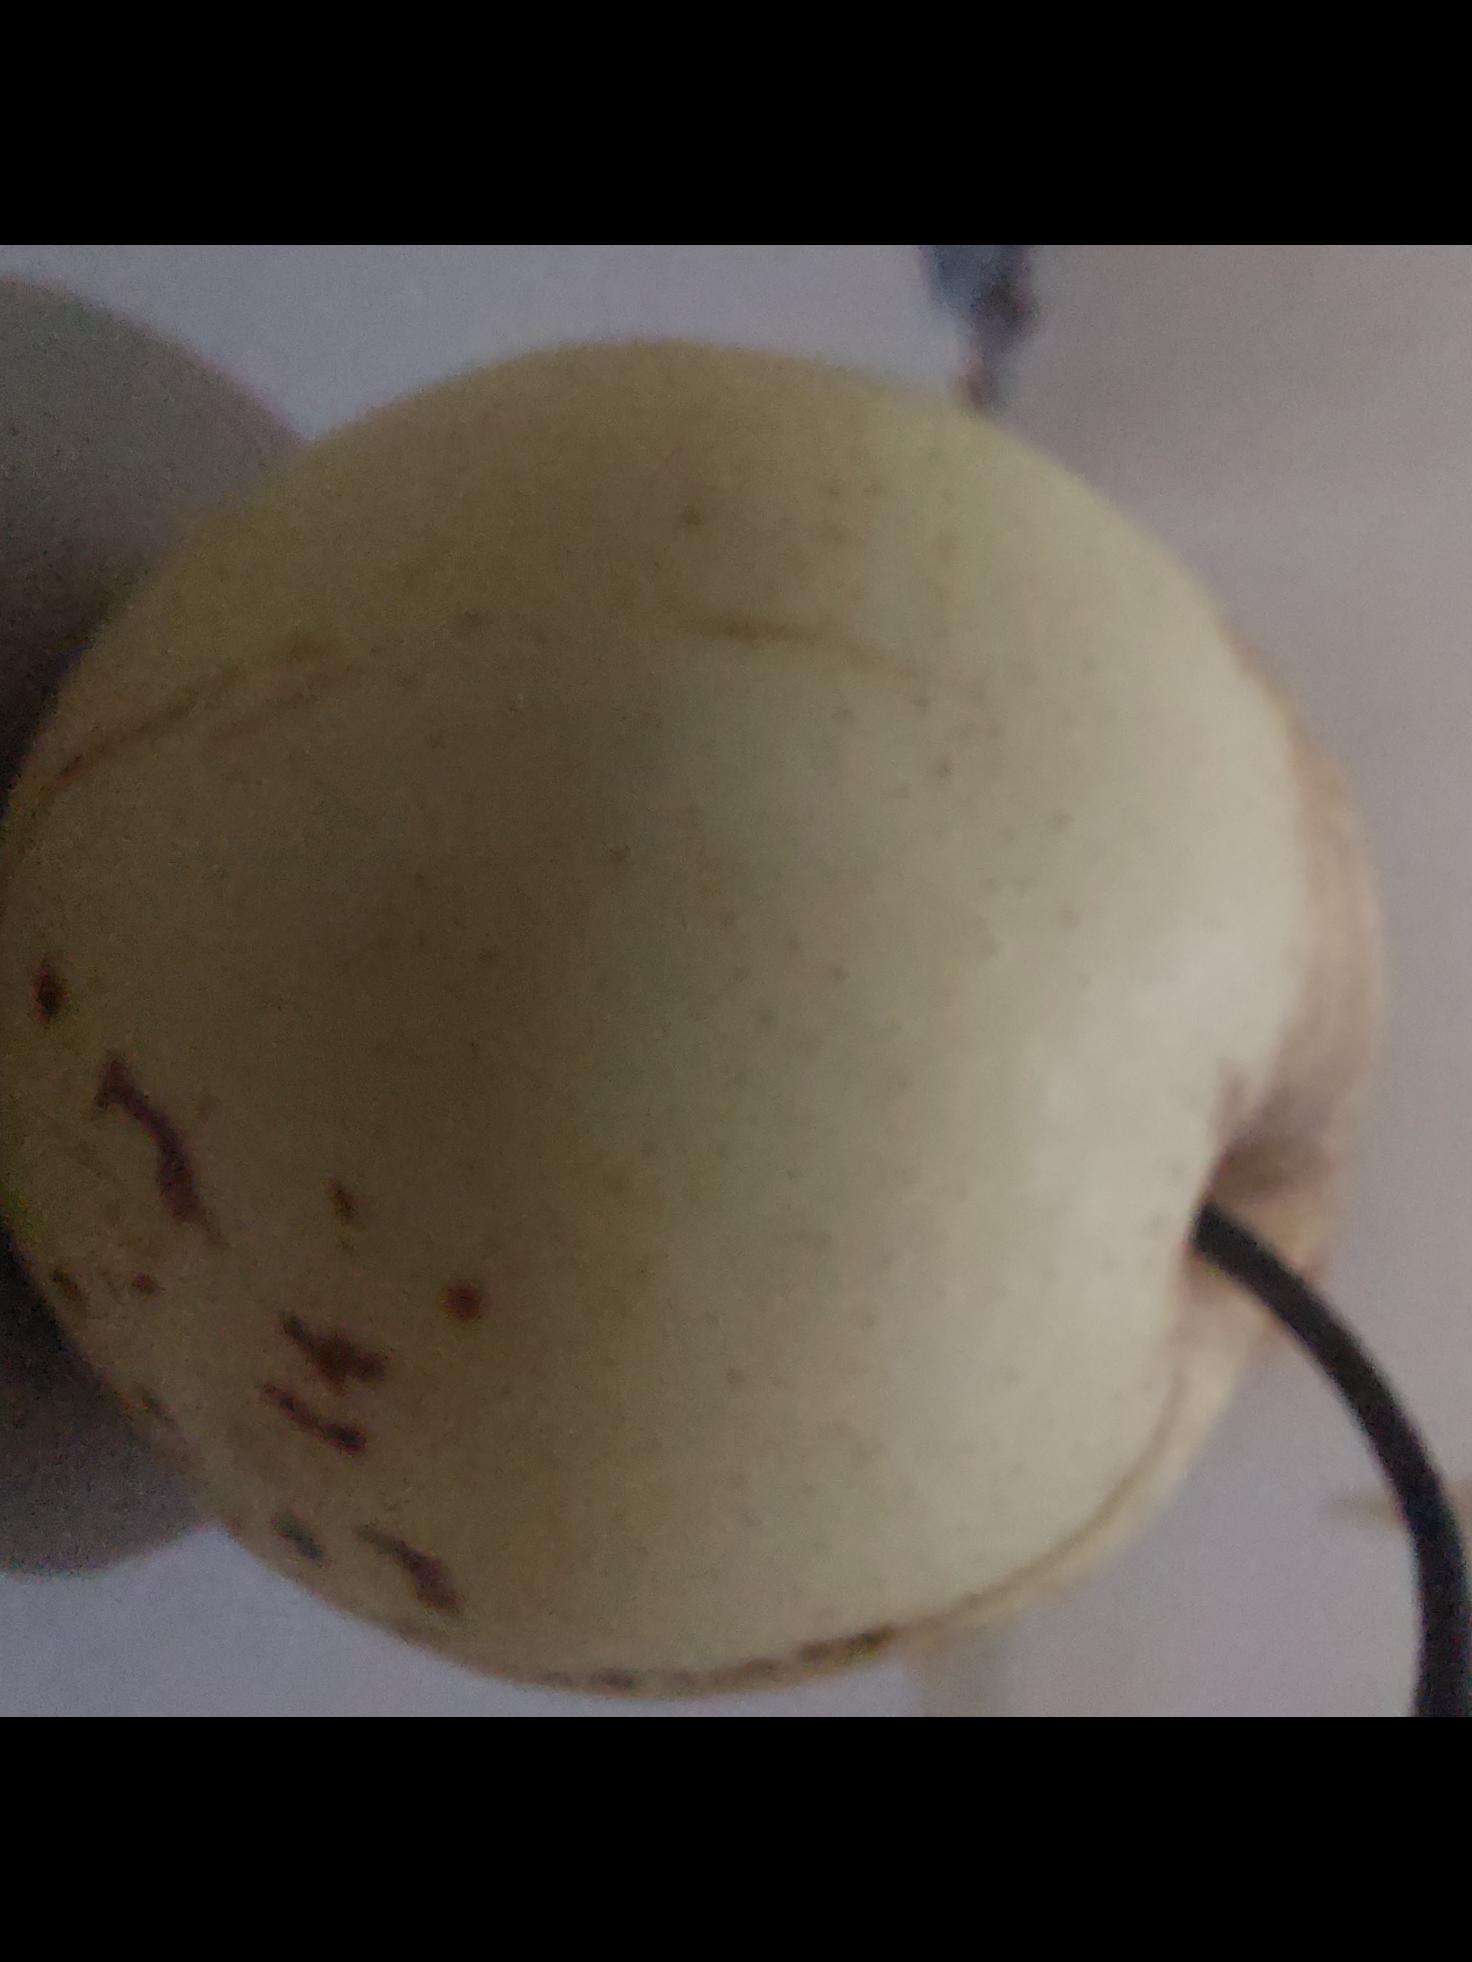Bad Pear: (0, 308, 1392, 1684)
